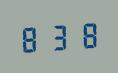eight: (18, 22, 44, 53), (73, 19, 99, 50)
three: (46, 20, 72, 52)
